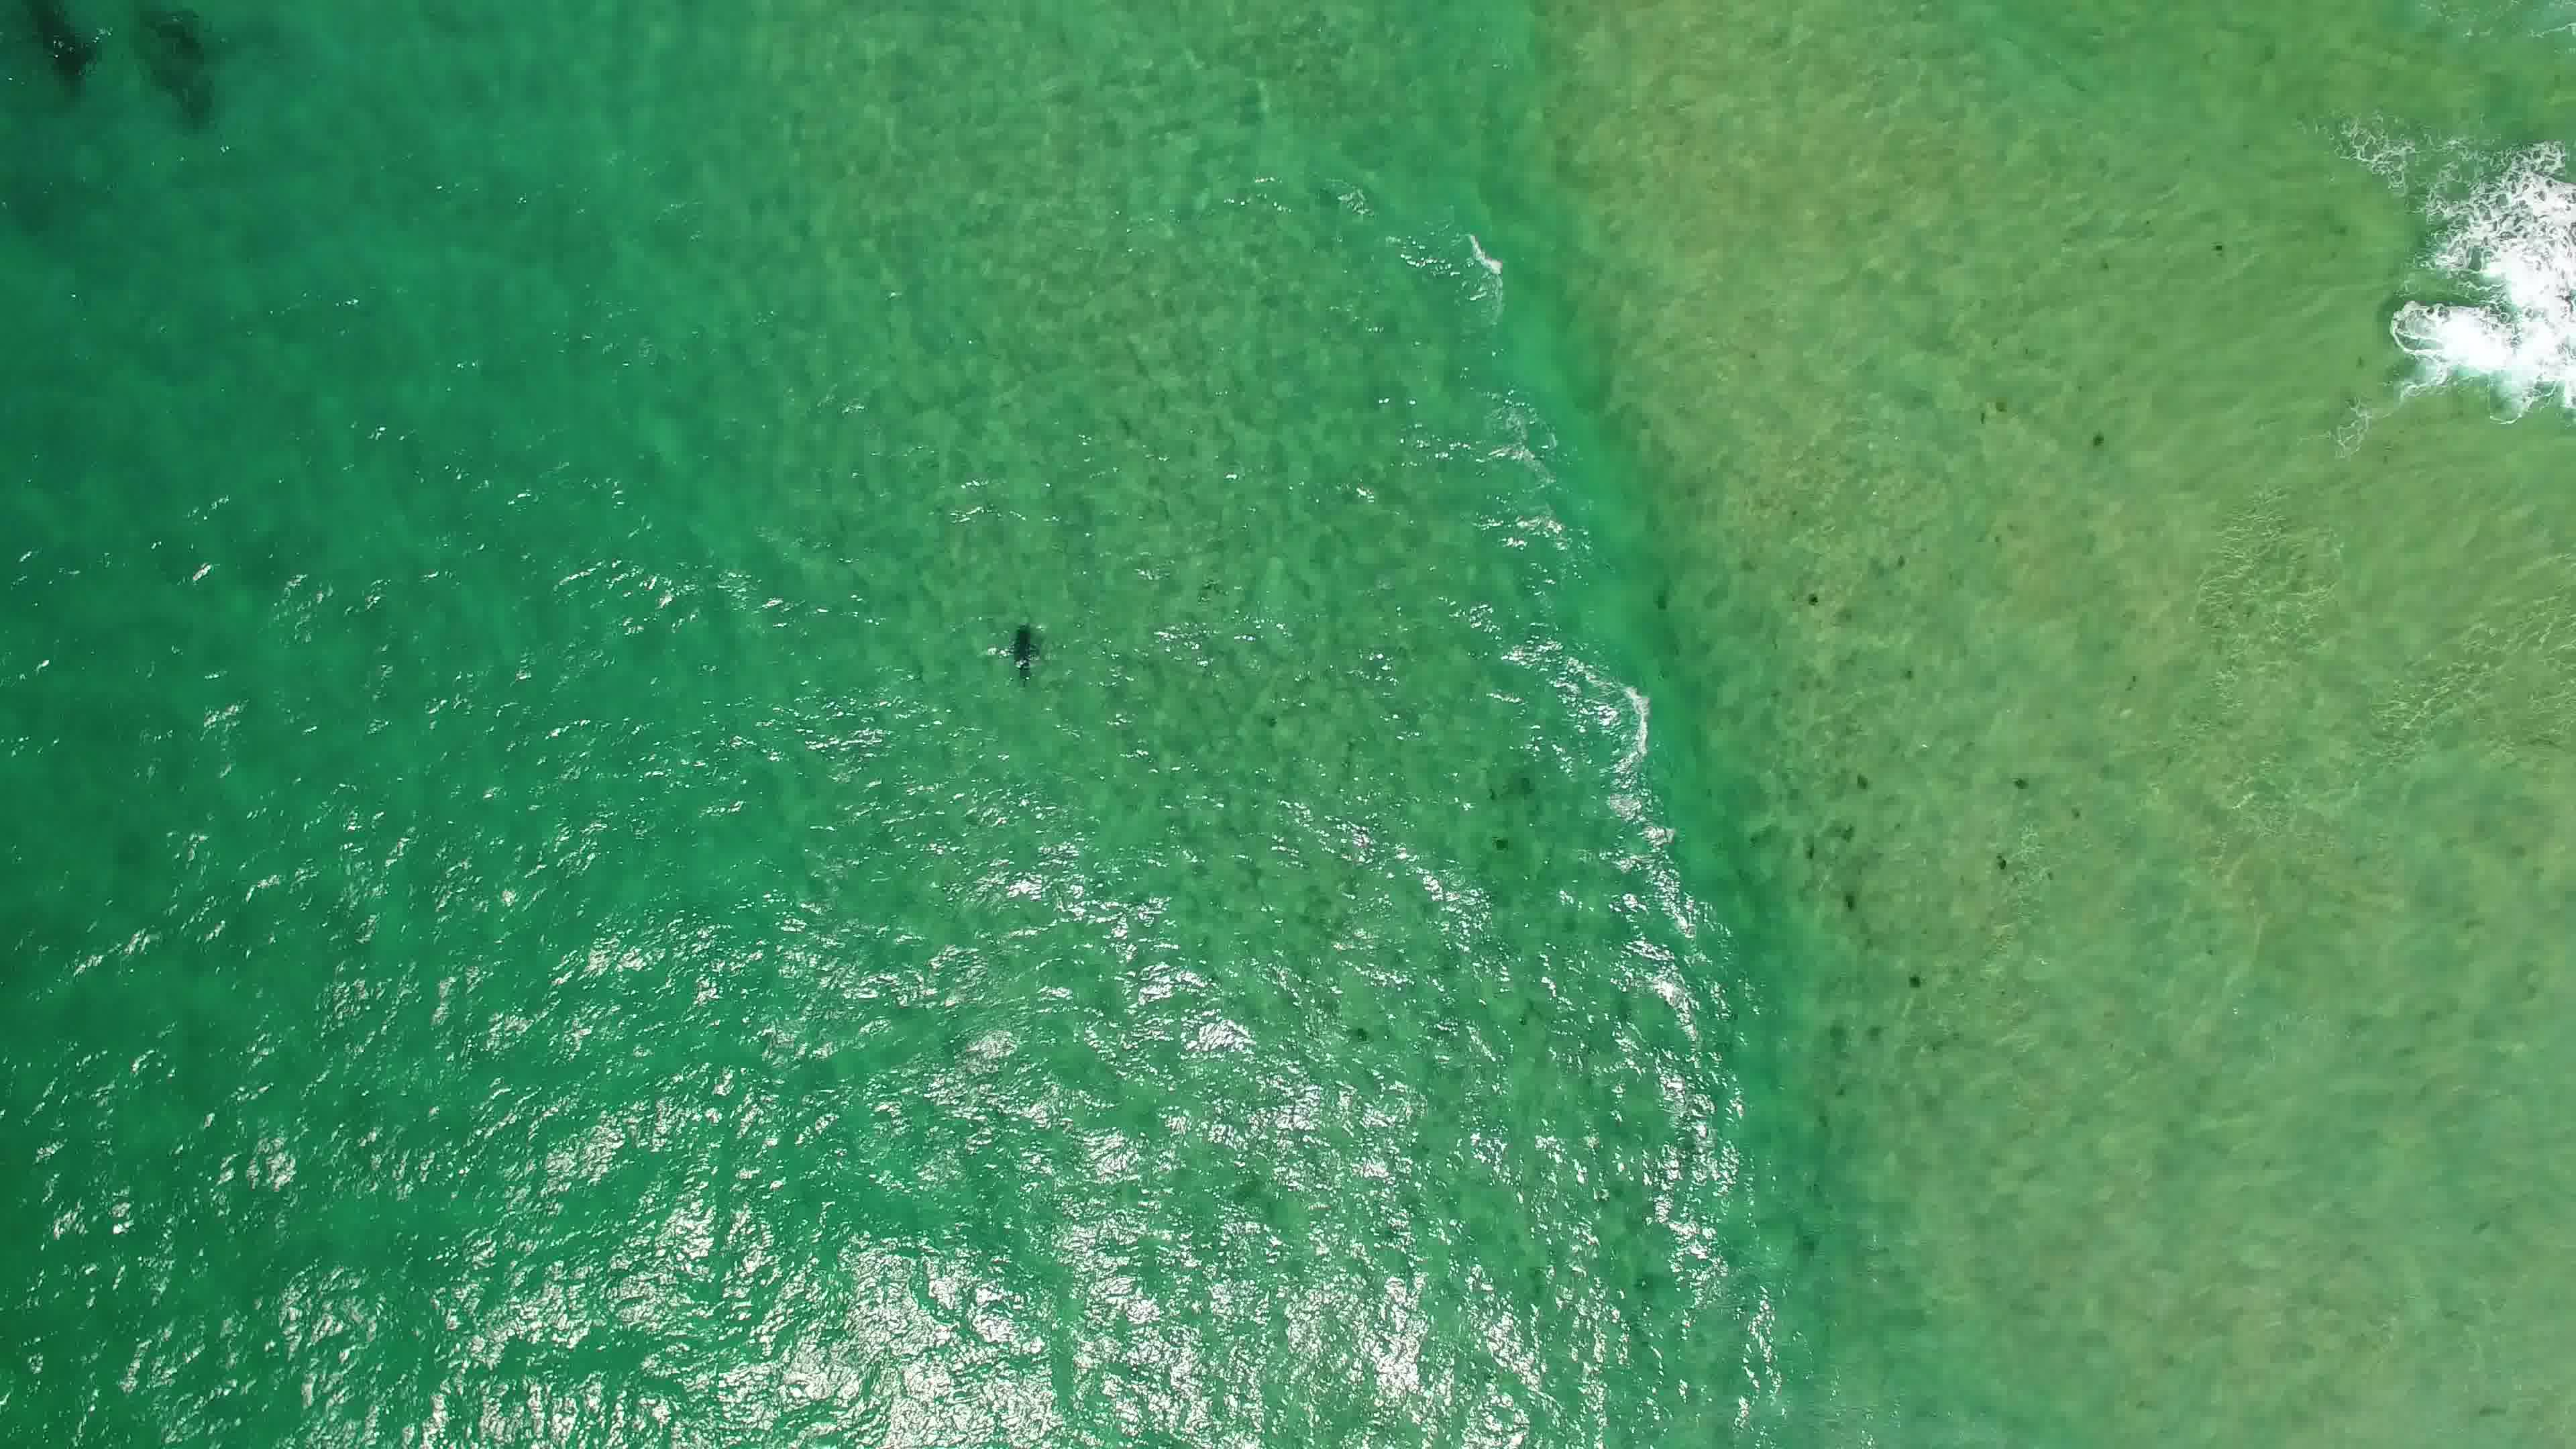shark: (1000, 619, 1049, 694)
